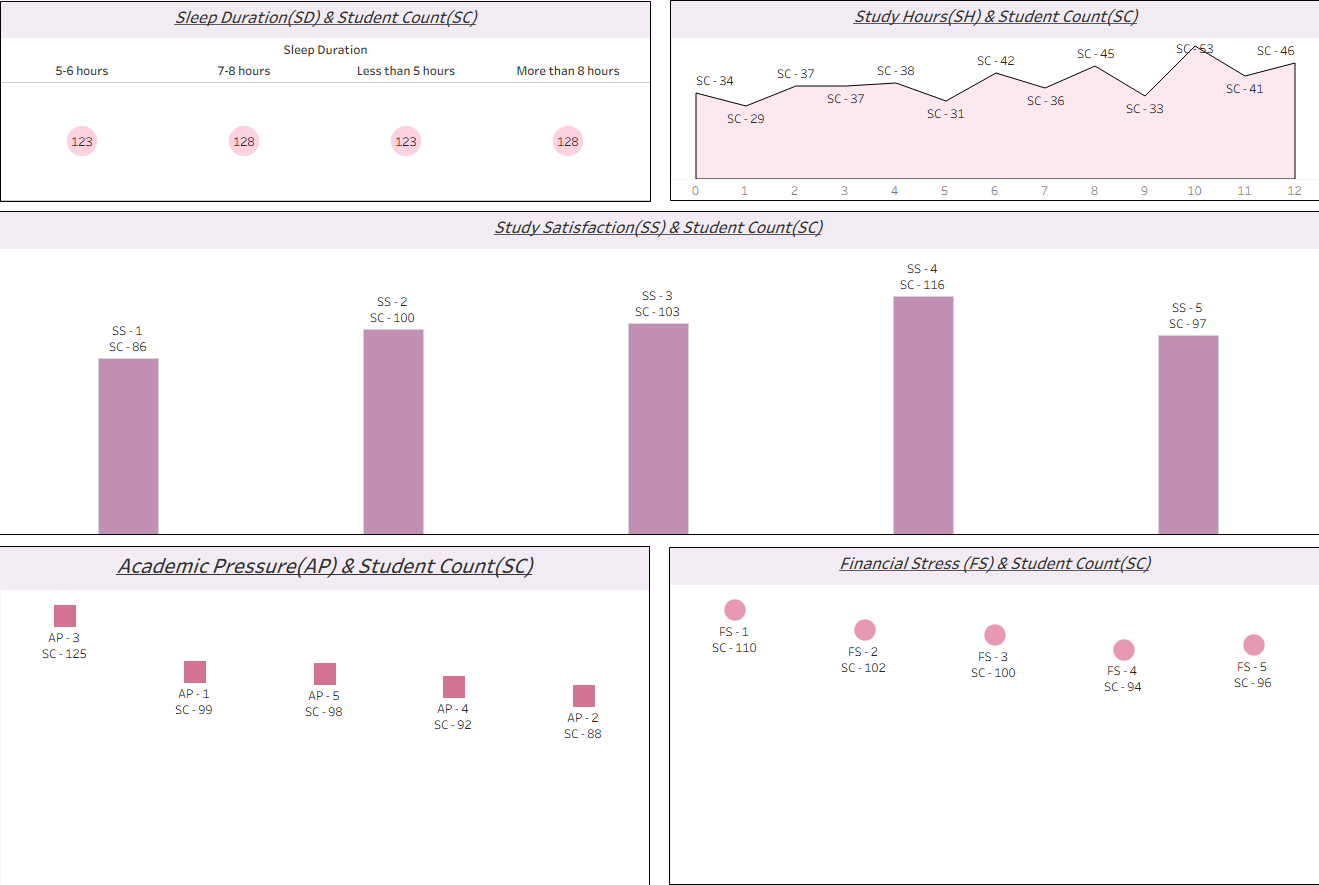

The page's visual inventory and layout, read from the dashboard file:
{"tool":"tableau","page":{"name":"Student Count Analysis","canvas":[1000,1000],"units":"permille","ordinal":0},"visuals":[{"type":"worksheet","title":"SH & SC","mark":"Area","rows":["Index_Column"],"cols":["Study Hours"],"box":[424,3.4,410.7,224.3]},{"type":"worksheet","title":"SD & SC","mark":"Pie","cols":["Sleep Duration"],"box":[1.3,4.5,410.7,224.3]},{"type":"worksheet","title":"AP & SC","mark":"Square","rows":["Index_Column"],"cols":["Academic Pressure"],"box":[0.6,612.7,410.7,379.5]},{"type":"worksheet","title":"FS & SC","mark":"Circle","rows":["Index_Column"],"cols":["Financial Stress"],"box":[423.3,613.8,410.7,377.2]}]}

Visuals, with their boxes on the dashboard's canvas, which has no fixed pixel size, in thousandths of its width and height (x1, y1, x2, y2). These are canvas units, not pixel positions in the 1319x885 screenshot, which may show the page scaled, cropped or inside an application window:
"SH & SC" worksheet (Area marks): crop(424, 3, 835, 228)
"SD & SC" worksheet (Pie marks): crop(1, 4, 412, 229)
"AP & SC" worksheet (Square marks): crop(1, 613, 411, 992)
"FS & SC" worksheet (Circle marks): crop(423, 614, 834, 991)
